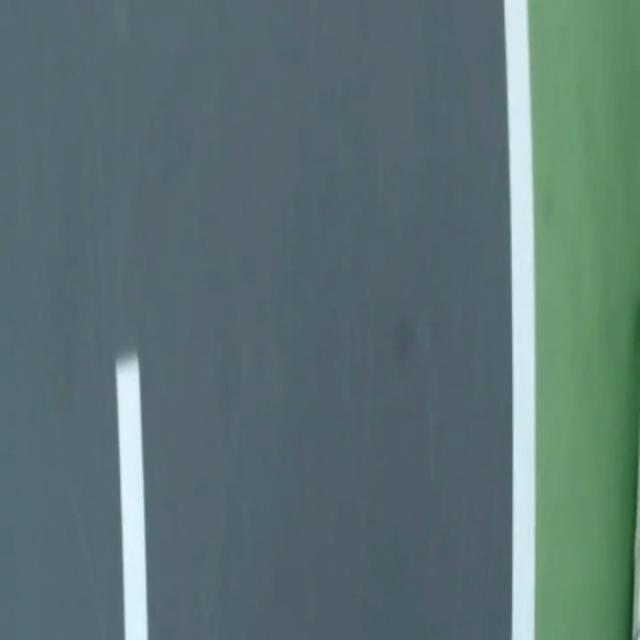center: (116, 353, 148, 639)
right: (504, 0, 535, 639)
